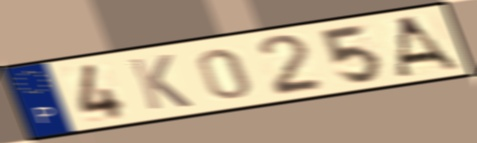0: (194, 47, 256, 102)
2: (256, 32, 329, 98)
4: (75, 61, 129, 121)
5: (316, 21, 386, 85)
A: (394, 13, 464, 79)
K: (126, 52, 196, 113)
